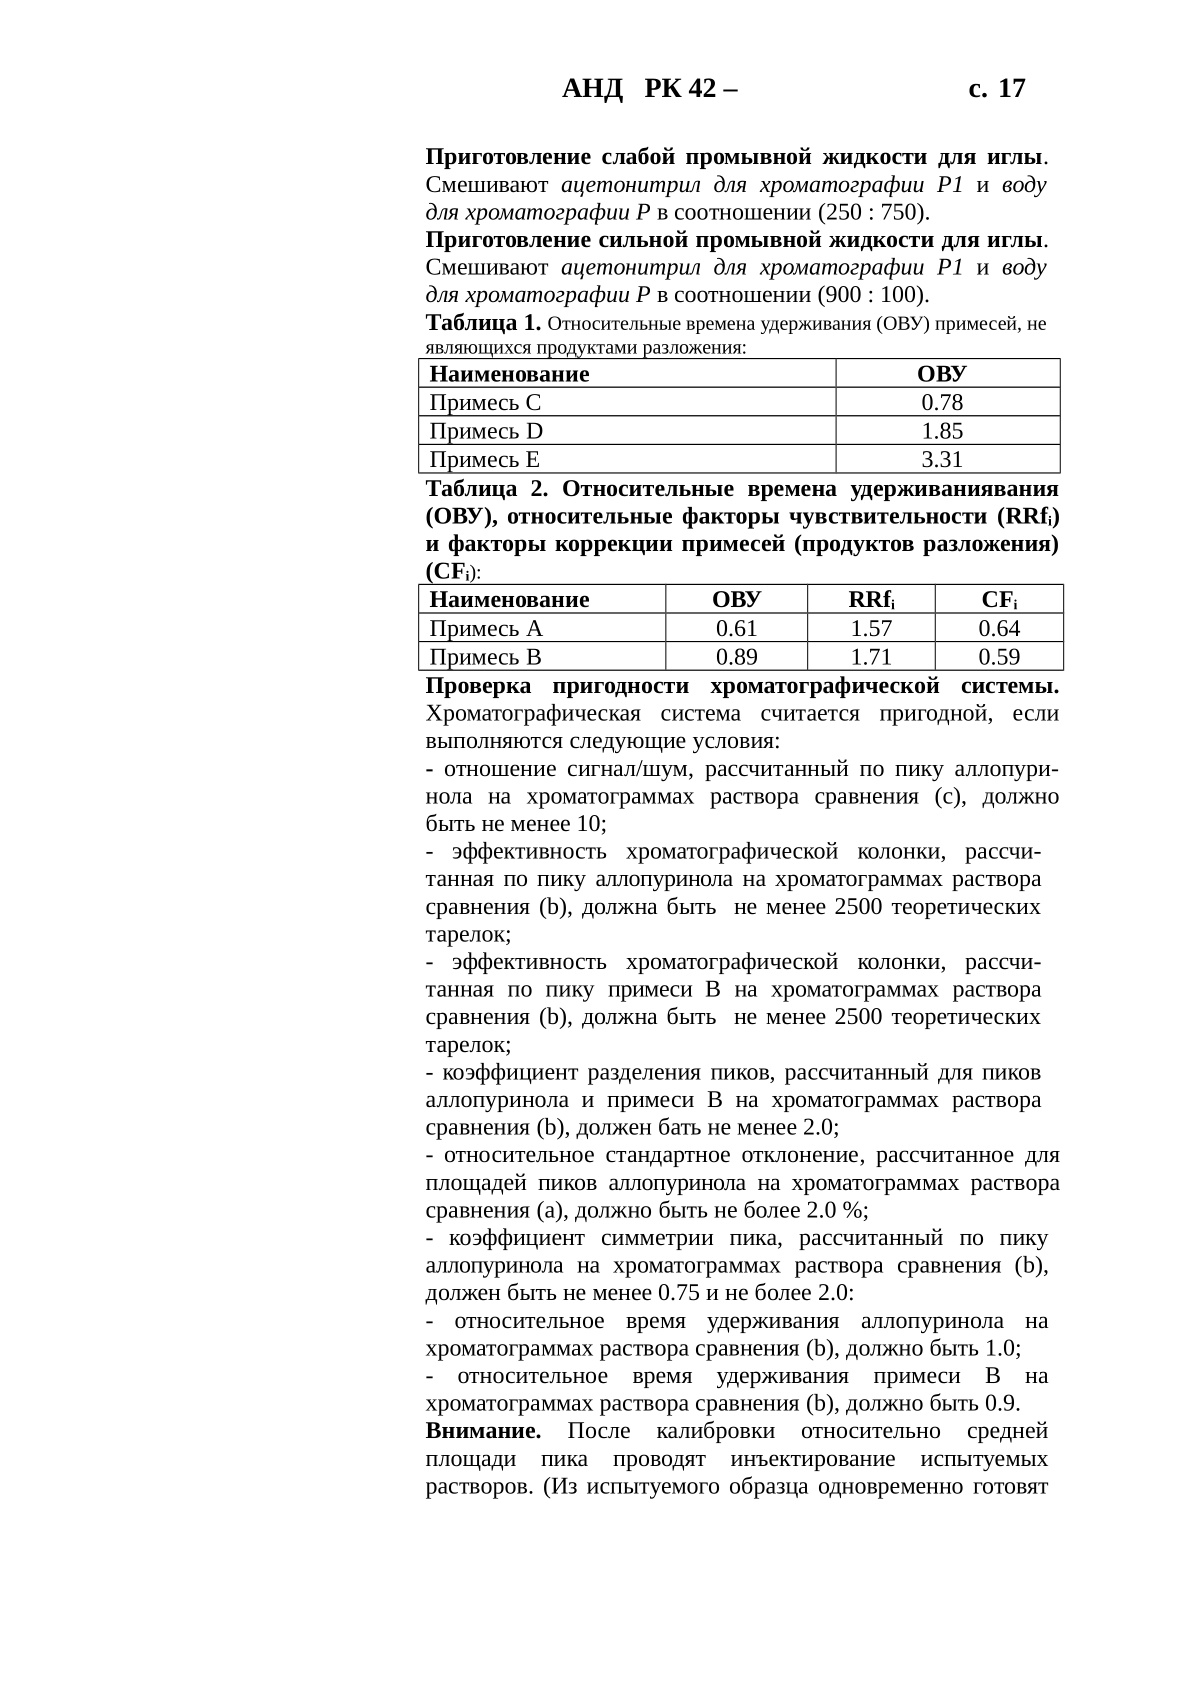full_lined: (417, 357, 1062, 474), (417, 583, 1065, 672)
